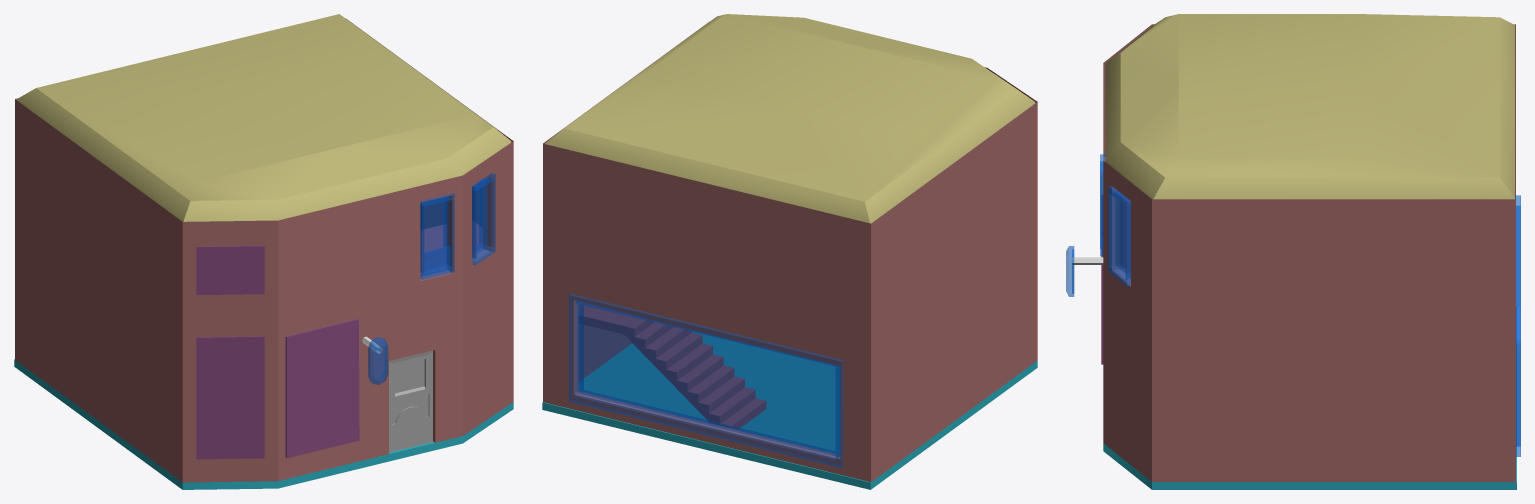
The model's file is shop_01.fbx.
3 views of the same model, side by side, from view 1: azimuth 30°, elevation 25°; view 2: azimuth 150°, elevation 25°; view 3: azimuth 270°, elevation 25° (orthographic). The views are drawn at different scales.
Parts seen in each view (by area): view 1: MESH_Shop, MESH_Door, MESH_Straigth_window, MESH_Inclined_window; view 2: MESH_Shop, MESH_Big_window; view 3: MESH_Shop, MESH_Inclined_window.
Part boxes in pixels (x1,y1,x2,y2): MESH_Shop: [14, 14, 513, 489]; MESH_Door: [389, 350, 432, 452]; MESH_Straigth_window: [420, 197, 448, 271]; MESH_Inclined_window: [472, 179, 487, 253]; MESH_Shop: [542, 14, 1037, 489]; MESH_Big_window: [577, 301, 839, 457]; MESH_Shop: [1066, 14, 1520, 489]; MESH_Inclined_window: [1115, 192, 1130, 273].
Bounding box in the file's own units: 9.34 × 7.88 × 10.25.
